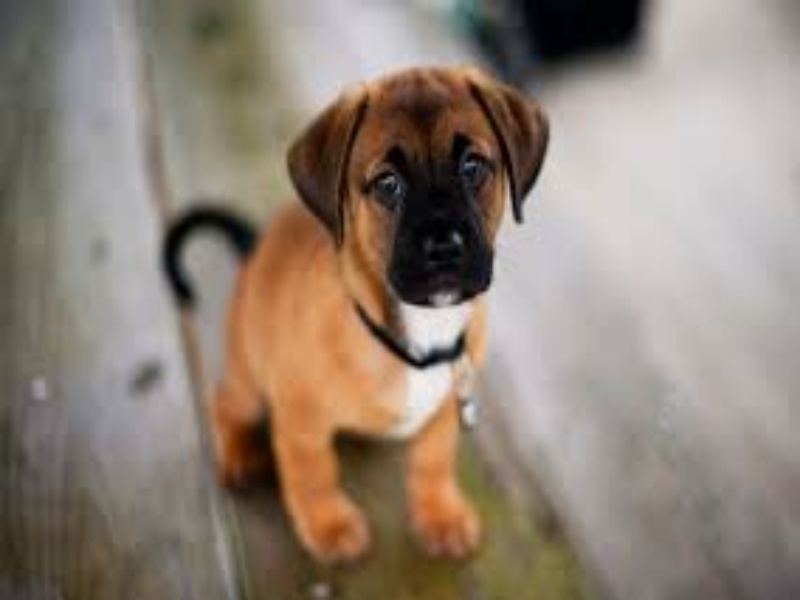dog: (209, 57, 557, 574)
